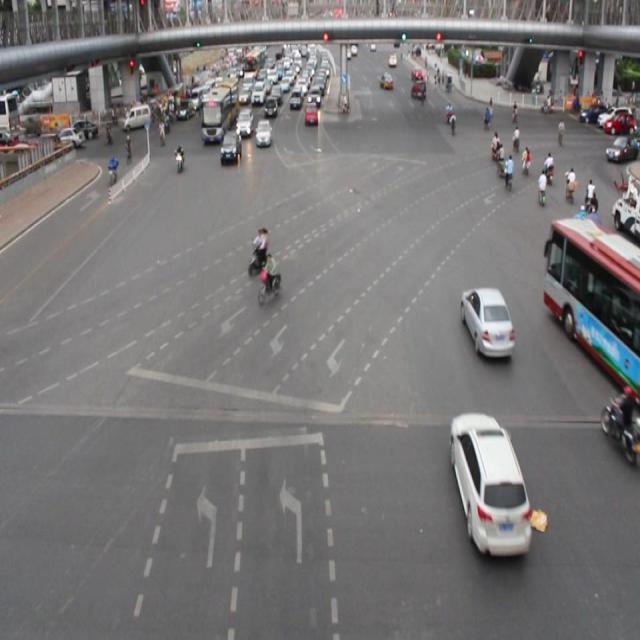car: (447, 412, 528, 554), (461, 287, 512, 359), (220, 130, 242, 166), (254, 119, 272, 148)
van: (549, 219, 640, 389)
